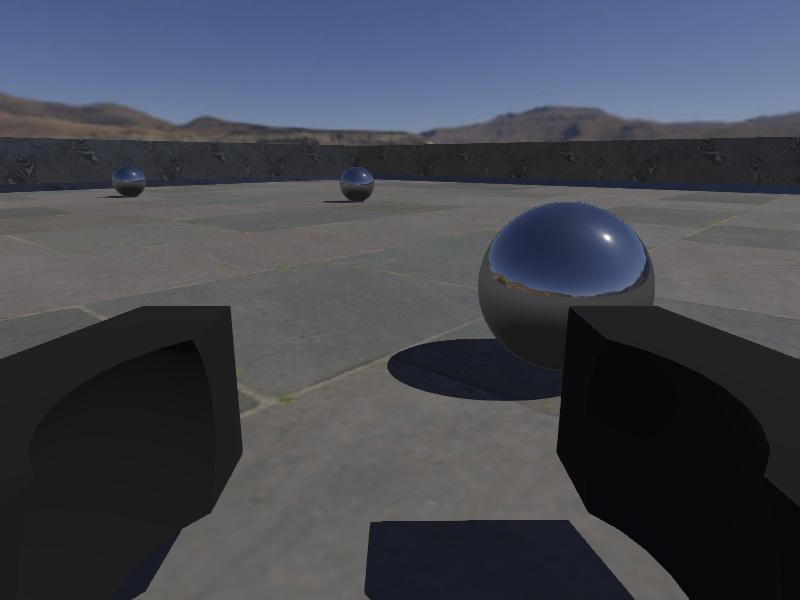steel ball: (339, 165, 377, 203), (112, 164, 146, 198)
